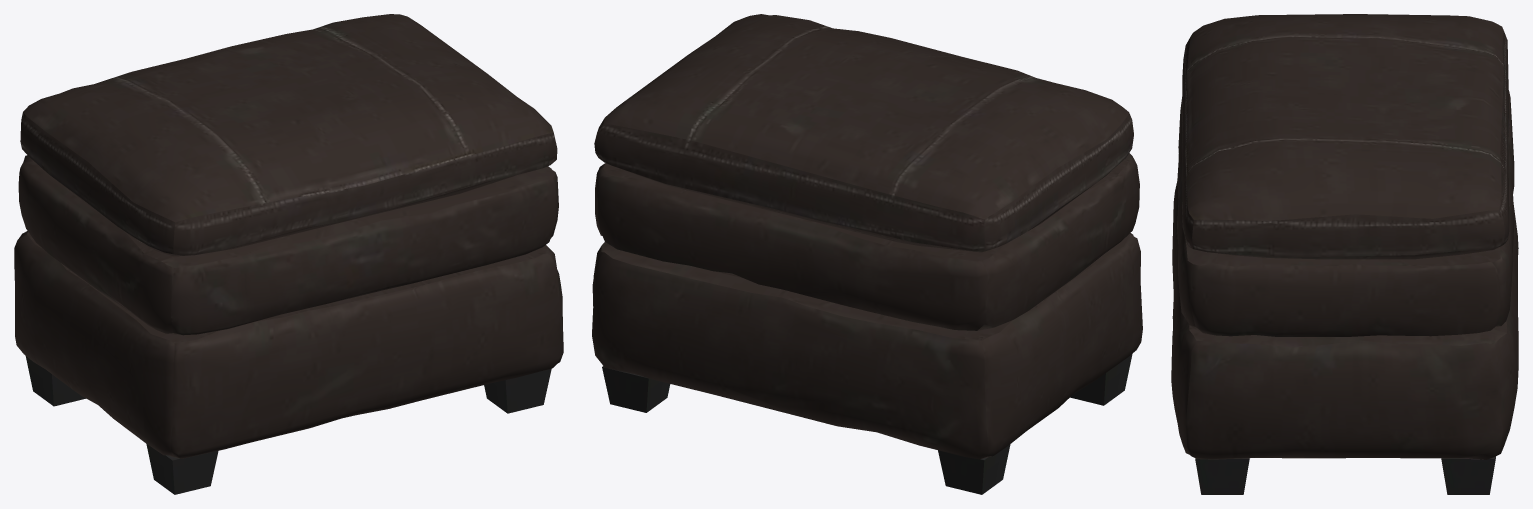
Rendered from Ottoman_01.glb.
3 views of the same model, side by side, from view 1: azimuth 30°, elevation 25°; view 2: azimuth 150°, elevation 25°; view 3: azimuth 270°, elevation 25° (orthographic).
Parts seen in each view (by area): view 1: Ottoman_01; view 2: Ottoman_01; view 3: Ottoman_01.
Part boxes in pixels (left/top/right/bottom): Ottoman_01: left=14, top=14, right=563, bottom=494; Ottoman_01: left=592, top=14, right=1142, bottom=494; Ottoman_01: left=1171, top=14, right=1518, bottom=494.
Bounding box in the file's own units: 0.8842 × 0.6243 × 0.6211.
1 material, 1 textured.
